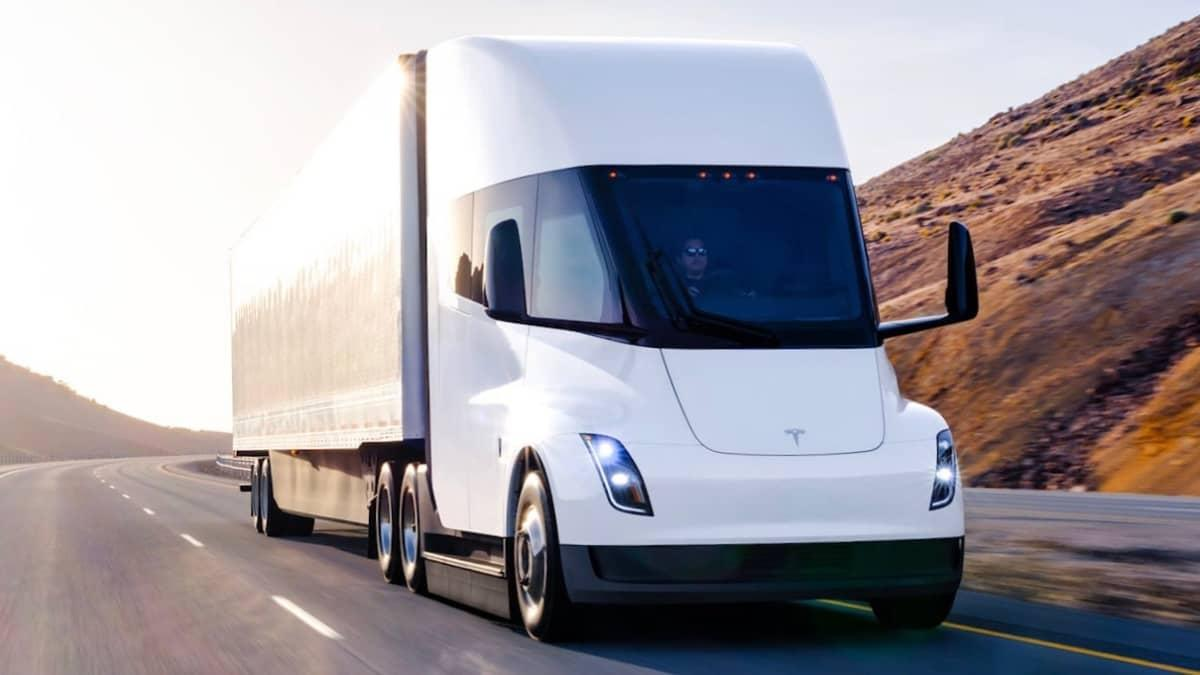truck: (230, 33, 979, 644)
